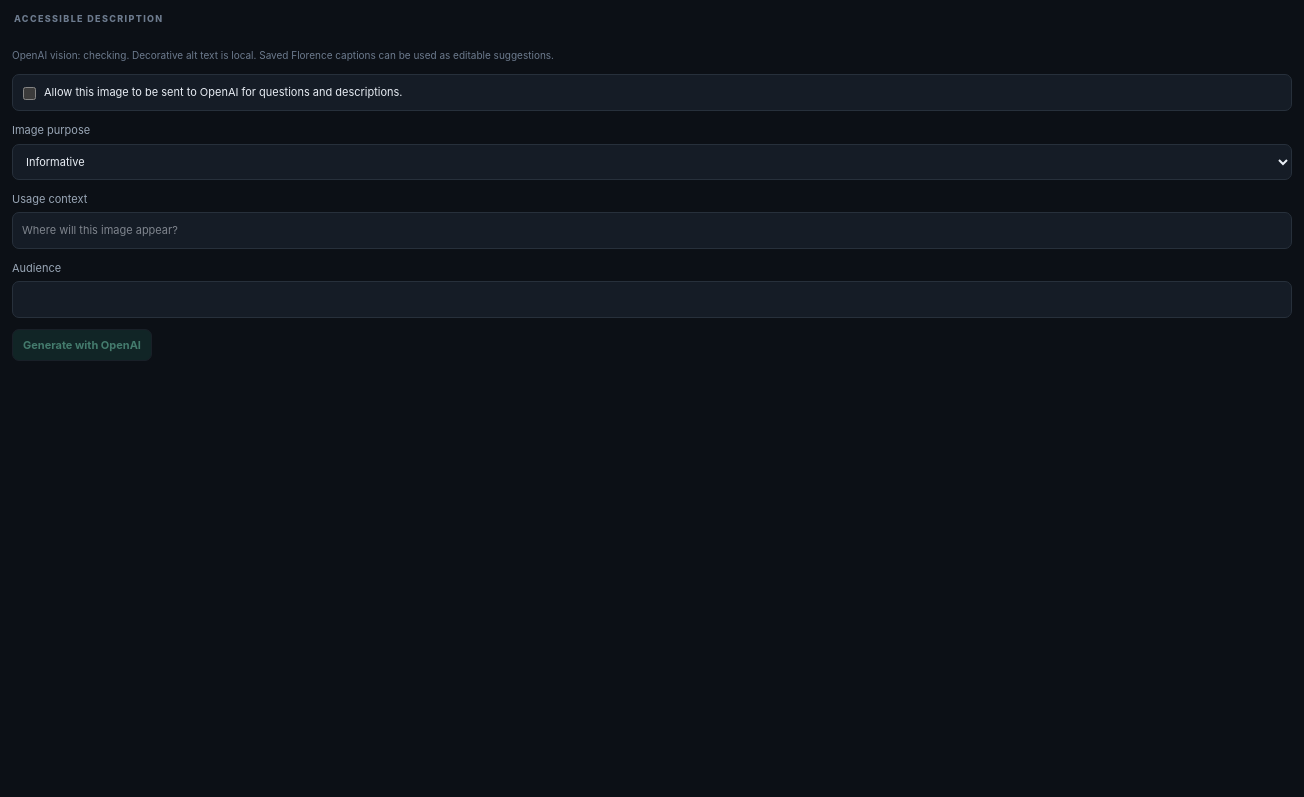
Scenario: multimodal inspectors › creates decorative empty alt text locally without consent
Select "Decorative (empty alt text)" in the dropdown labelled "Image purpose" at point(652, 162), box [12,144,1292,180]
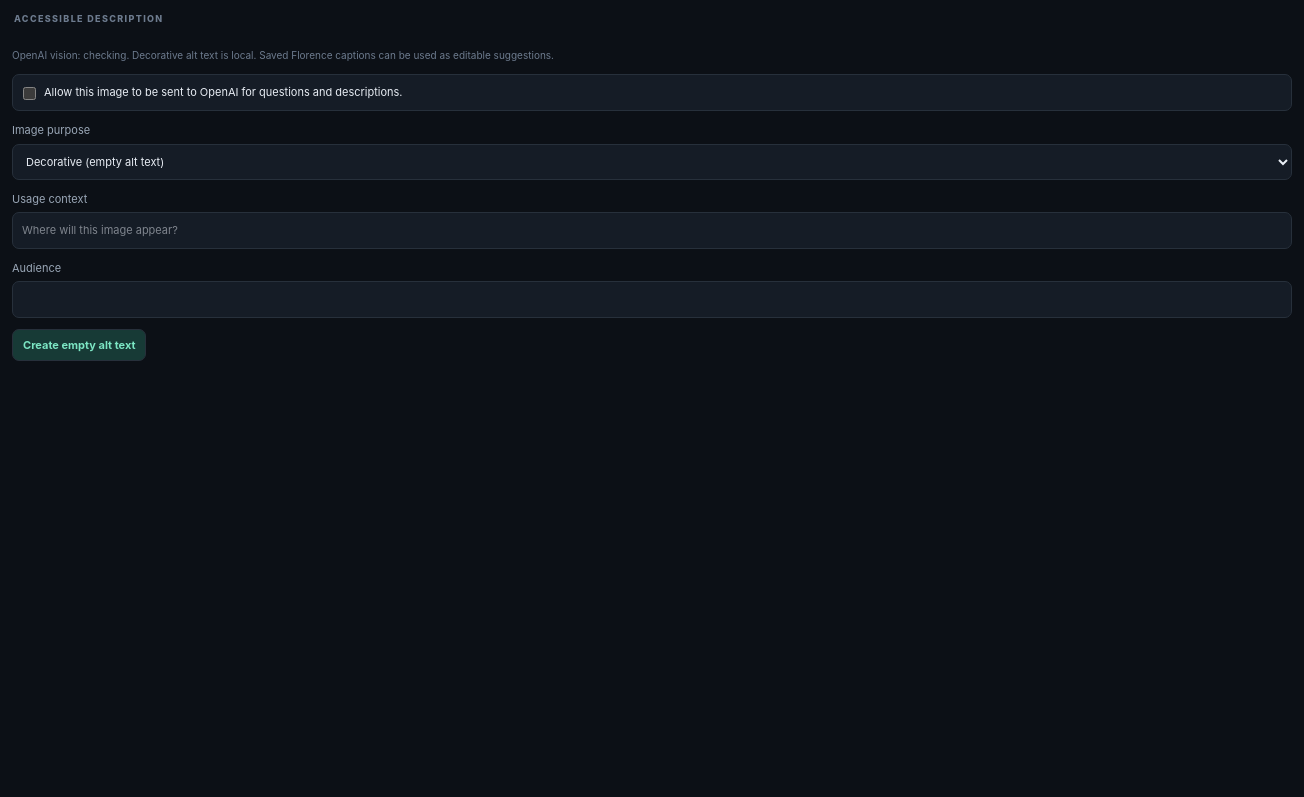
Click the button "Create empty alt text".
click(79, 345)  # box [12,329,146,361]
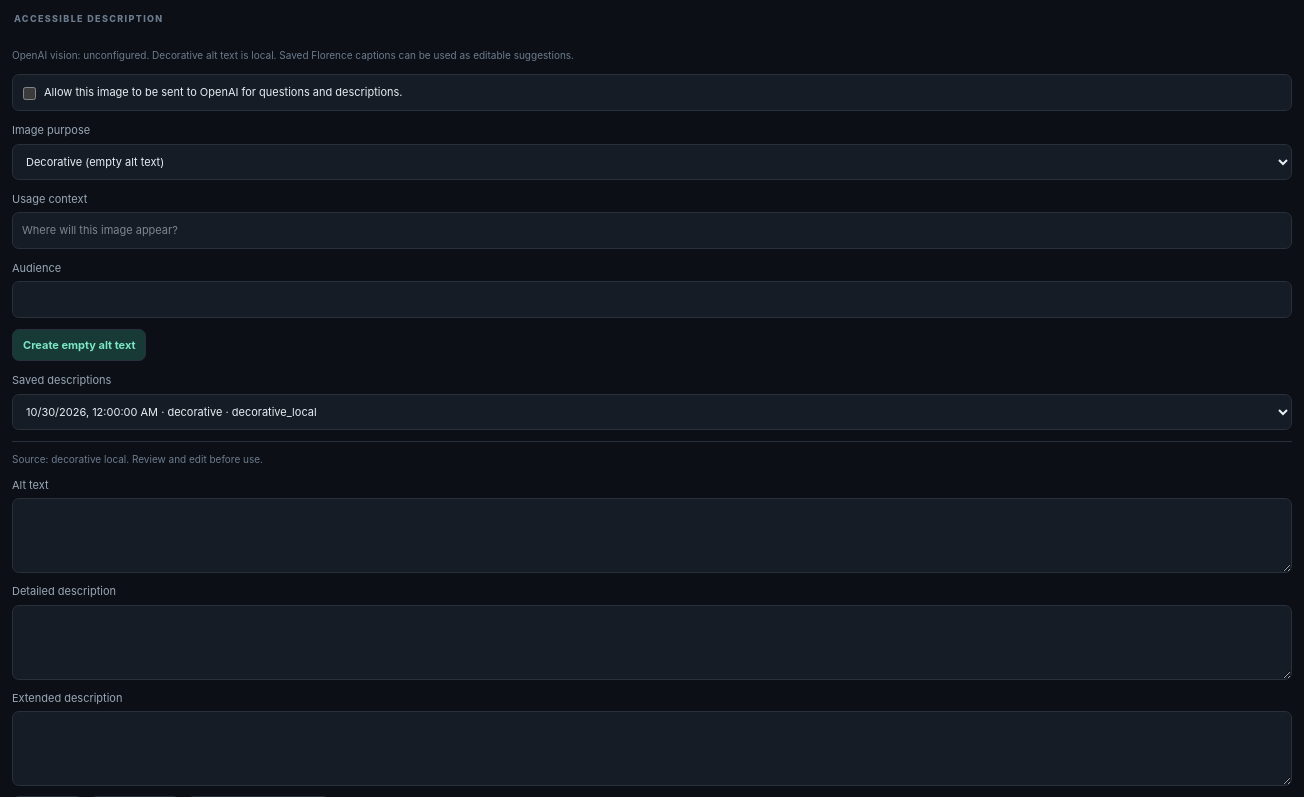
Check: the text box labelled "Alt text" is empty, box [12,498,1292,573]
Check: the text "Source: decorative local. Review and edit before use." is shown, box [12,453,263,465]
